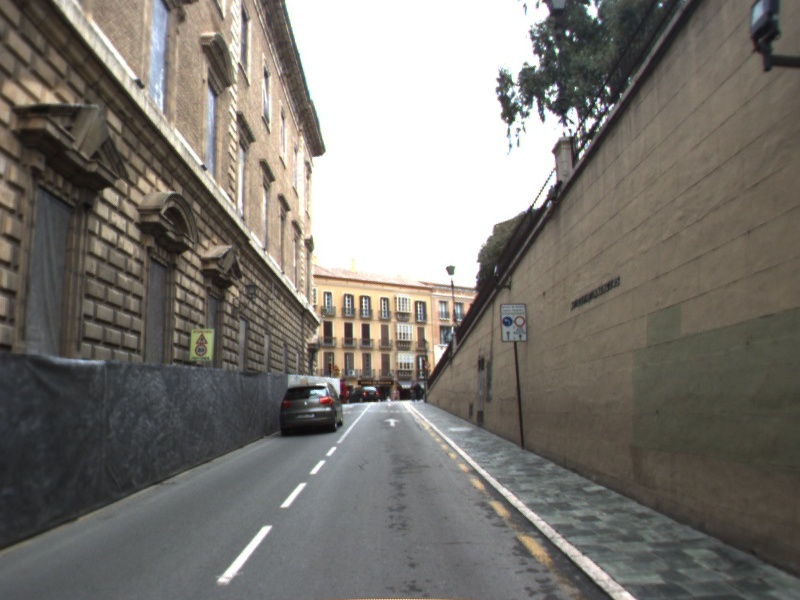STRAIGHT: (382, 415, 402, 428)
